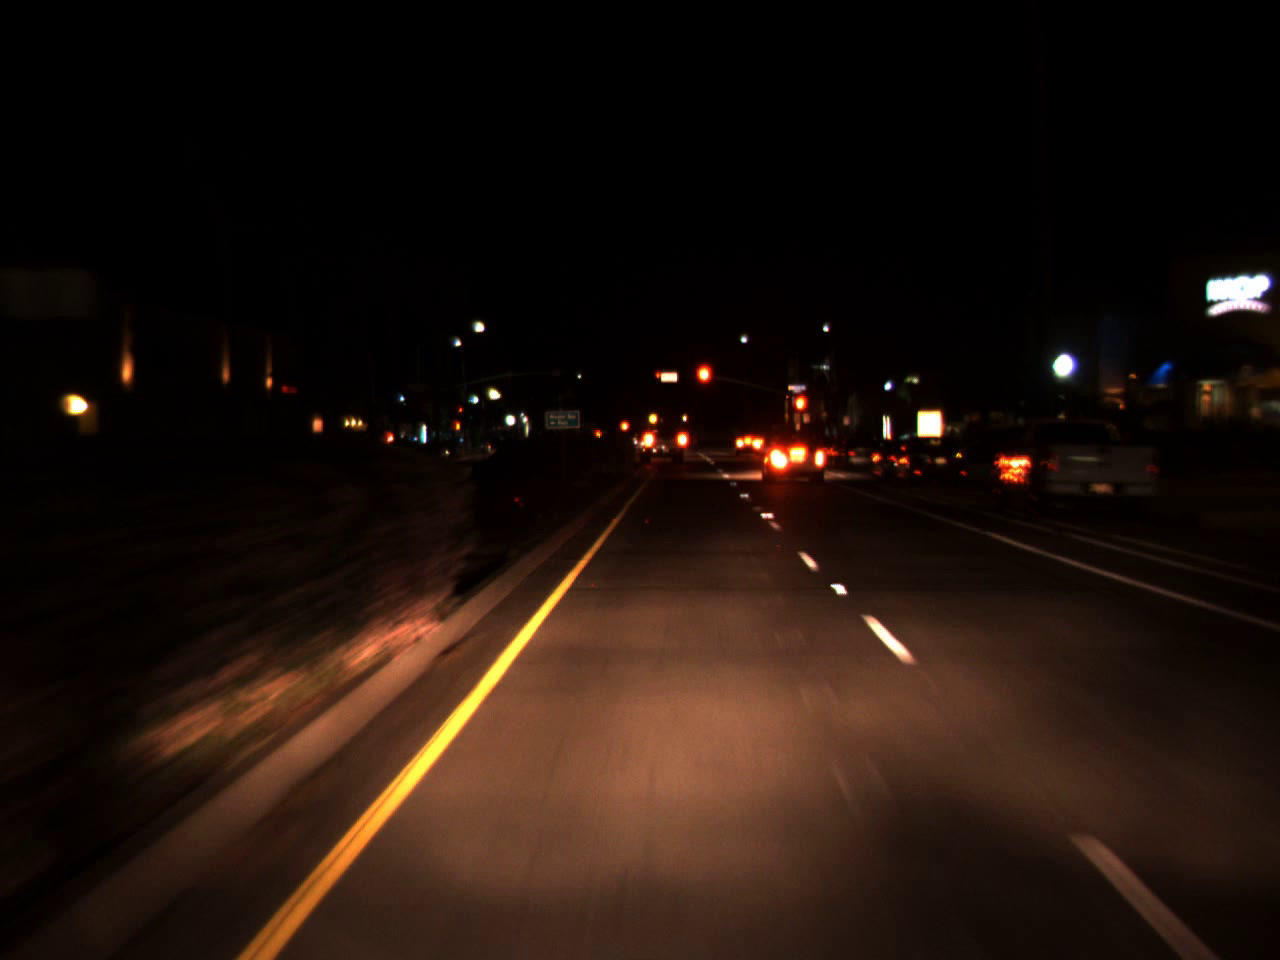stop: (693, 362, 714, 405), (791, 392, 809, 429), (655, 371, 661, 384)
